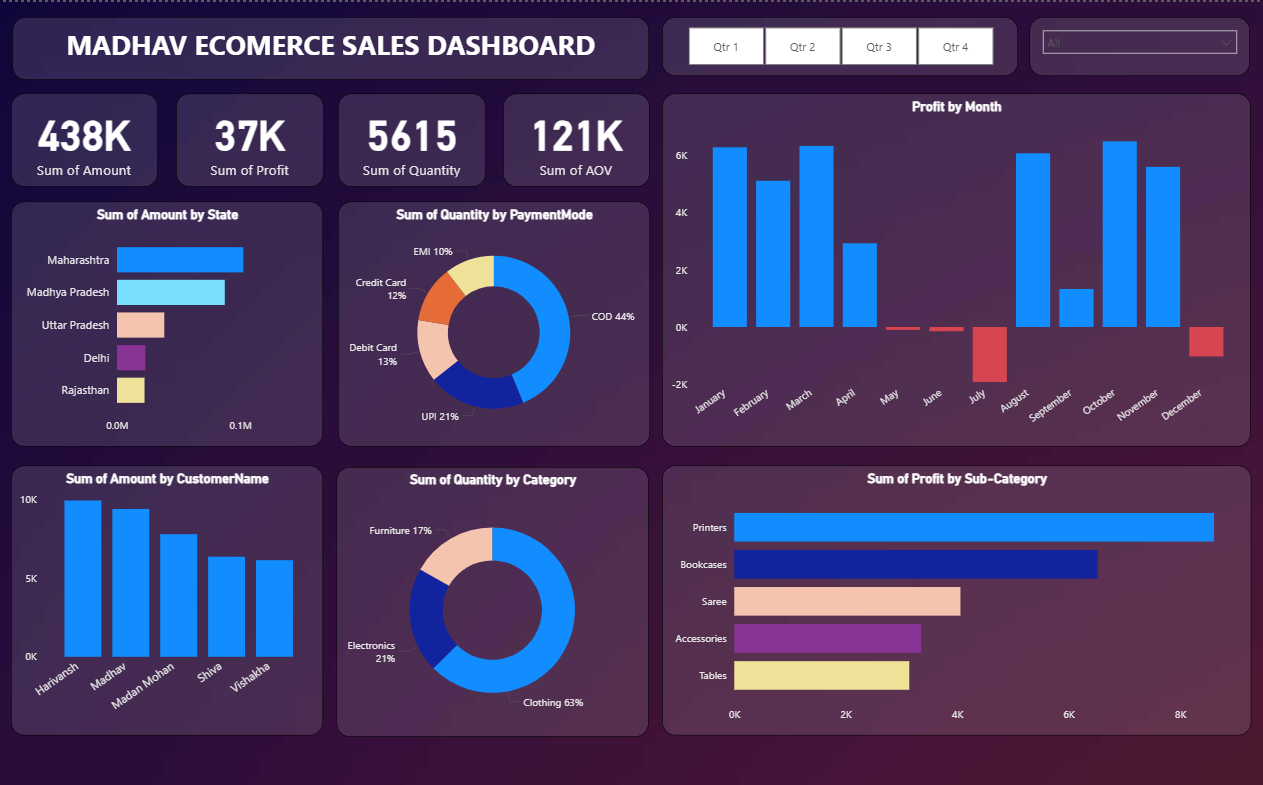

This screenshot's page, from the dashboard's own definition file:
{"tool":"powerbi","page":{"name":"Page 1","canvas":[1500,933],"ordinal":0},"visuals":[{"type":"columnChart","title":"Profit by Month","fields":{"Category":["Orders.Order Date.Variation.Date Hierarchy.Month"],"Y":["Sum(Details.Profit)"]},"box":[785.8,108.8,698.1,418.9],"z":0},{"type":"textbox","box":[16.2,17.9,755,74.7],"z":1000},{"type":"barChart","fields":{"Category":["Details.Sub-Category"],"Y":["Sum(Details.Profit)"]},"box":[786,549.5,698.9,320],"z":2000},{"type":"donutChart","fields":{"Category":["Details.Category"],"Y":["Sum(Details.Quantity)"]},"box":[400.1,551.3,370,320.1],"z":3000},{"type":"donutChart","fields":{"Y":["Sum(Details.Quantity)"],"Category":["Details.PaymentMode"]},"box":[401,237,370.2,290.6],"z":4000},{"type":"card","fields":{"Values":["Sum(Details.Amount)"]},"box":[14.6,108.8,173.7,110.4],"z":5000},{"type":"card","fields":{"Values":["Sum(Details.Profit)"]},"box":[209.4,108.8,175.3,110.4],"z":6000},{"type":"card","fields":{"Values":["Sum(Details.Quantity)"]},"box":[401,108.8,175.3,110.4],"z":7000},{"type":"card","fields":{"Values":["Sum(Details.AOV)"]},"box":[597.5,108.8,173.7,110.4],"z":8000},{"type":"barChart","fields":{"Y":["Sum(Details.Amount)"],"Category":["Orders.State"]},"box":[14.6,237,370.2,290.6],"z":9000},{"type":"columnChart","fields":{"Category":["Orders.CustomerName"],"Y":["Sum(Details.Amount)"]},"box":[14.2,549.5,369.9,320.1],"z":10000},{"type":"slicer","fields":{"Values":["Orders.Order Date.Variation.Date Hierarchy.Quarter"]},"box":[785.8,17.9,422.1,69.8],"z":11000},{"type":"slicer","fields":{"Values":["Orders.State"]},"box":[1222.6,17.9,261.4,69.8],"z":11001}]}

Visuals, with their boxes in screenshot pixels (x1, y1, x2, y2), scaled from the page's 1500x933 canvas onto the 1263x785 screenshot:
"Profit by Month" columnChart: detection(662, 92, 1249, 444)
textbox: detection(14, 15, 649, 78)
barChart - Details.Sub-Category x Sum(Details.Profit): detection(662, 462, 1250, 732)
donutChart - Details.Category x Sum(Details.Quantity): detection(337, 464, 648, 733)
donutChart - Sum(Details.Quantity) x Details.PaymentMode: detection(338, 199, 649, 444)
card - Sum(Details.Amount): detection(12, 92, 159, 184)
card - Sum(Details.Profit): detection(176, 92, 324, 184)
card - Sum(Details.Quantity): detection(338, 92, 485, 184)
card - Sum(Details.AOV): detection(503, 92, 649, 184)
barChart - Sum(Details.Amount) x Orders.State: detection(12, 199, 324, 444)
columnChart - Orders.CustomerName x Sum(Details.Amount): detection(12, 462, 323, 732)
slicer - Orders.Order Date.Variation.Date Hierarchy.Quarter: detection(662, 15, 1017, 74)
slicer - Orders.State: detection(1029, 15, 1250, 74)
